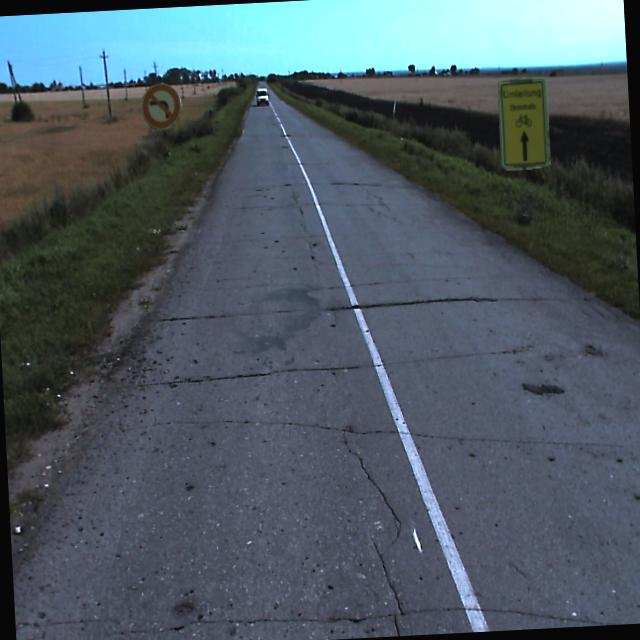road: (13, 88, 640, 640)
